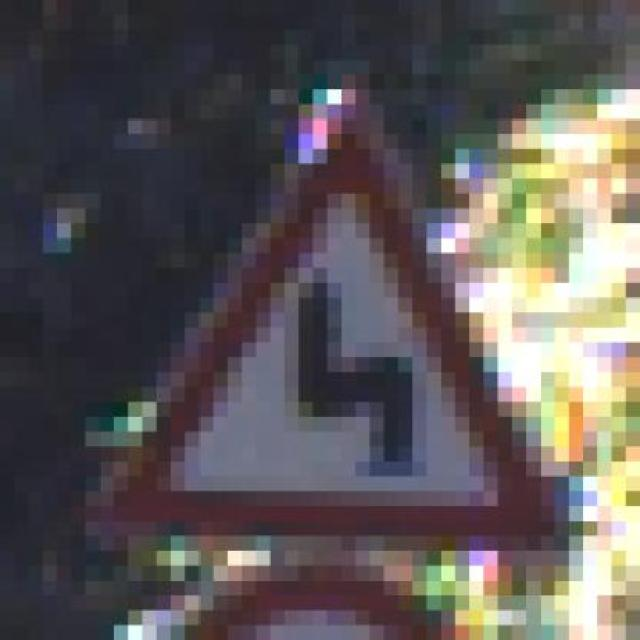Left Zig Zag Traffic: (85, 74, 598, 566)
